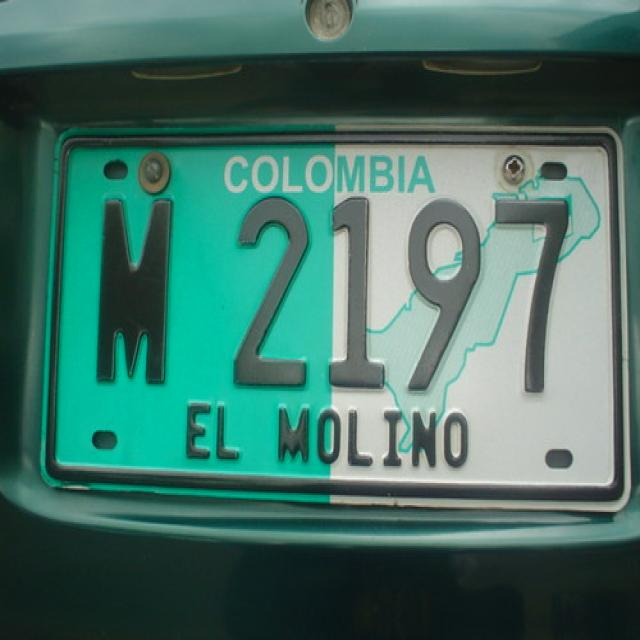placas: (62, 184, 583, 410)
